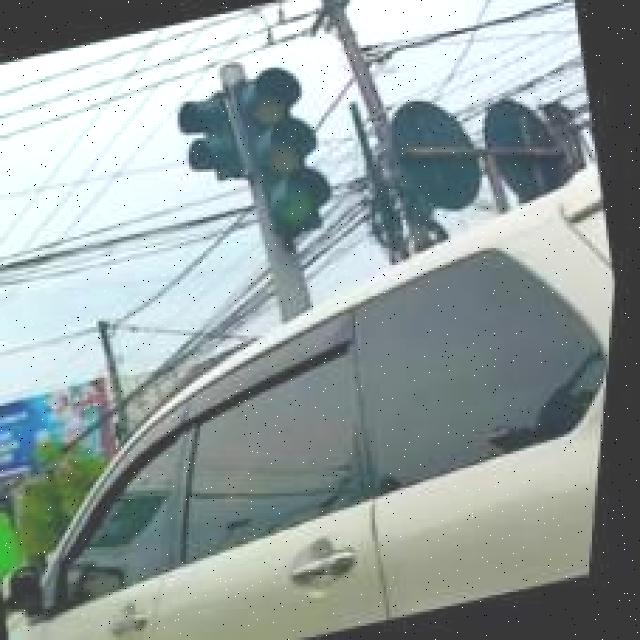green_light: (214, 62, 350, 248)
